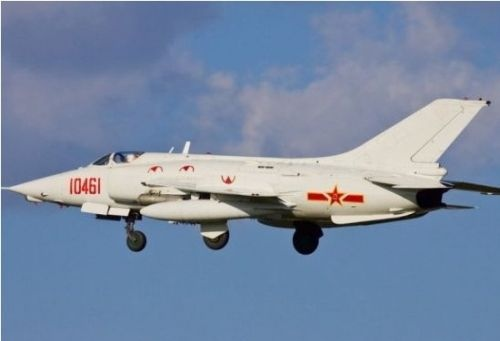airplane: (1, 98, 500, 253)
